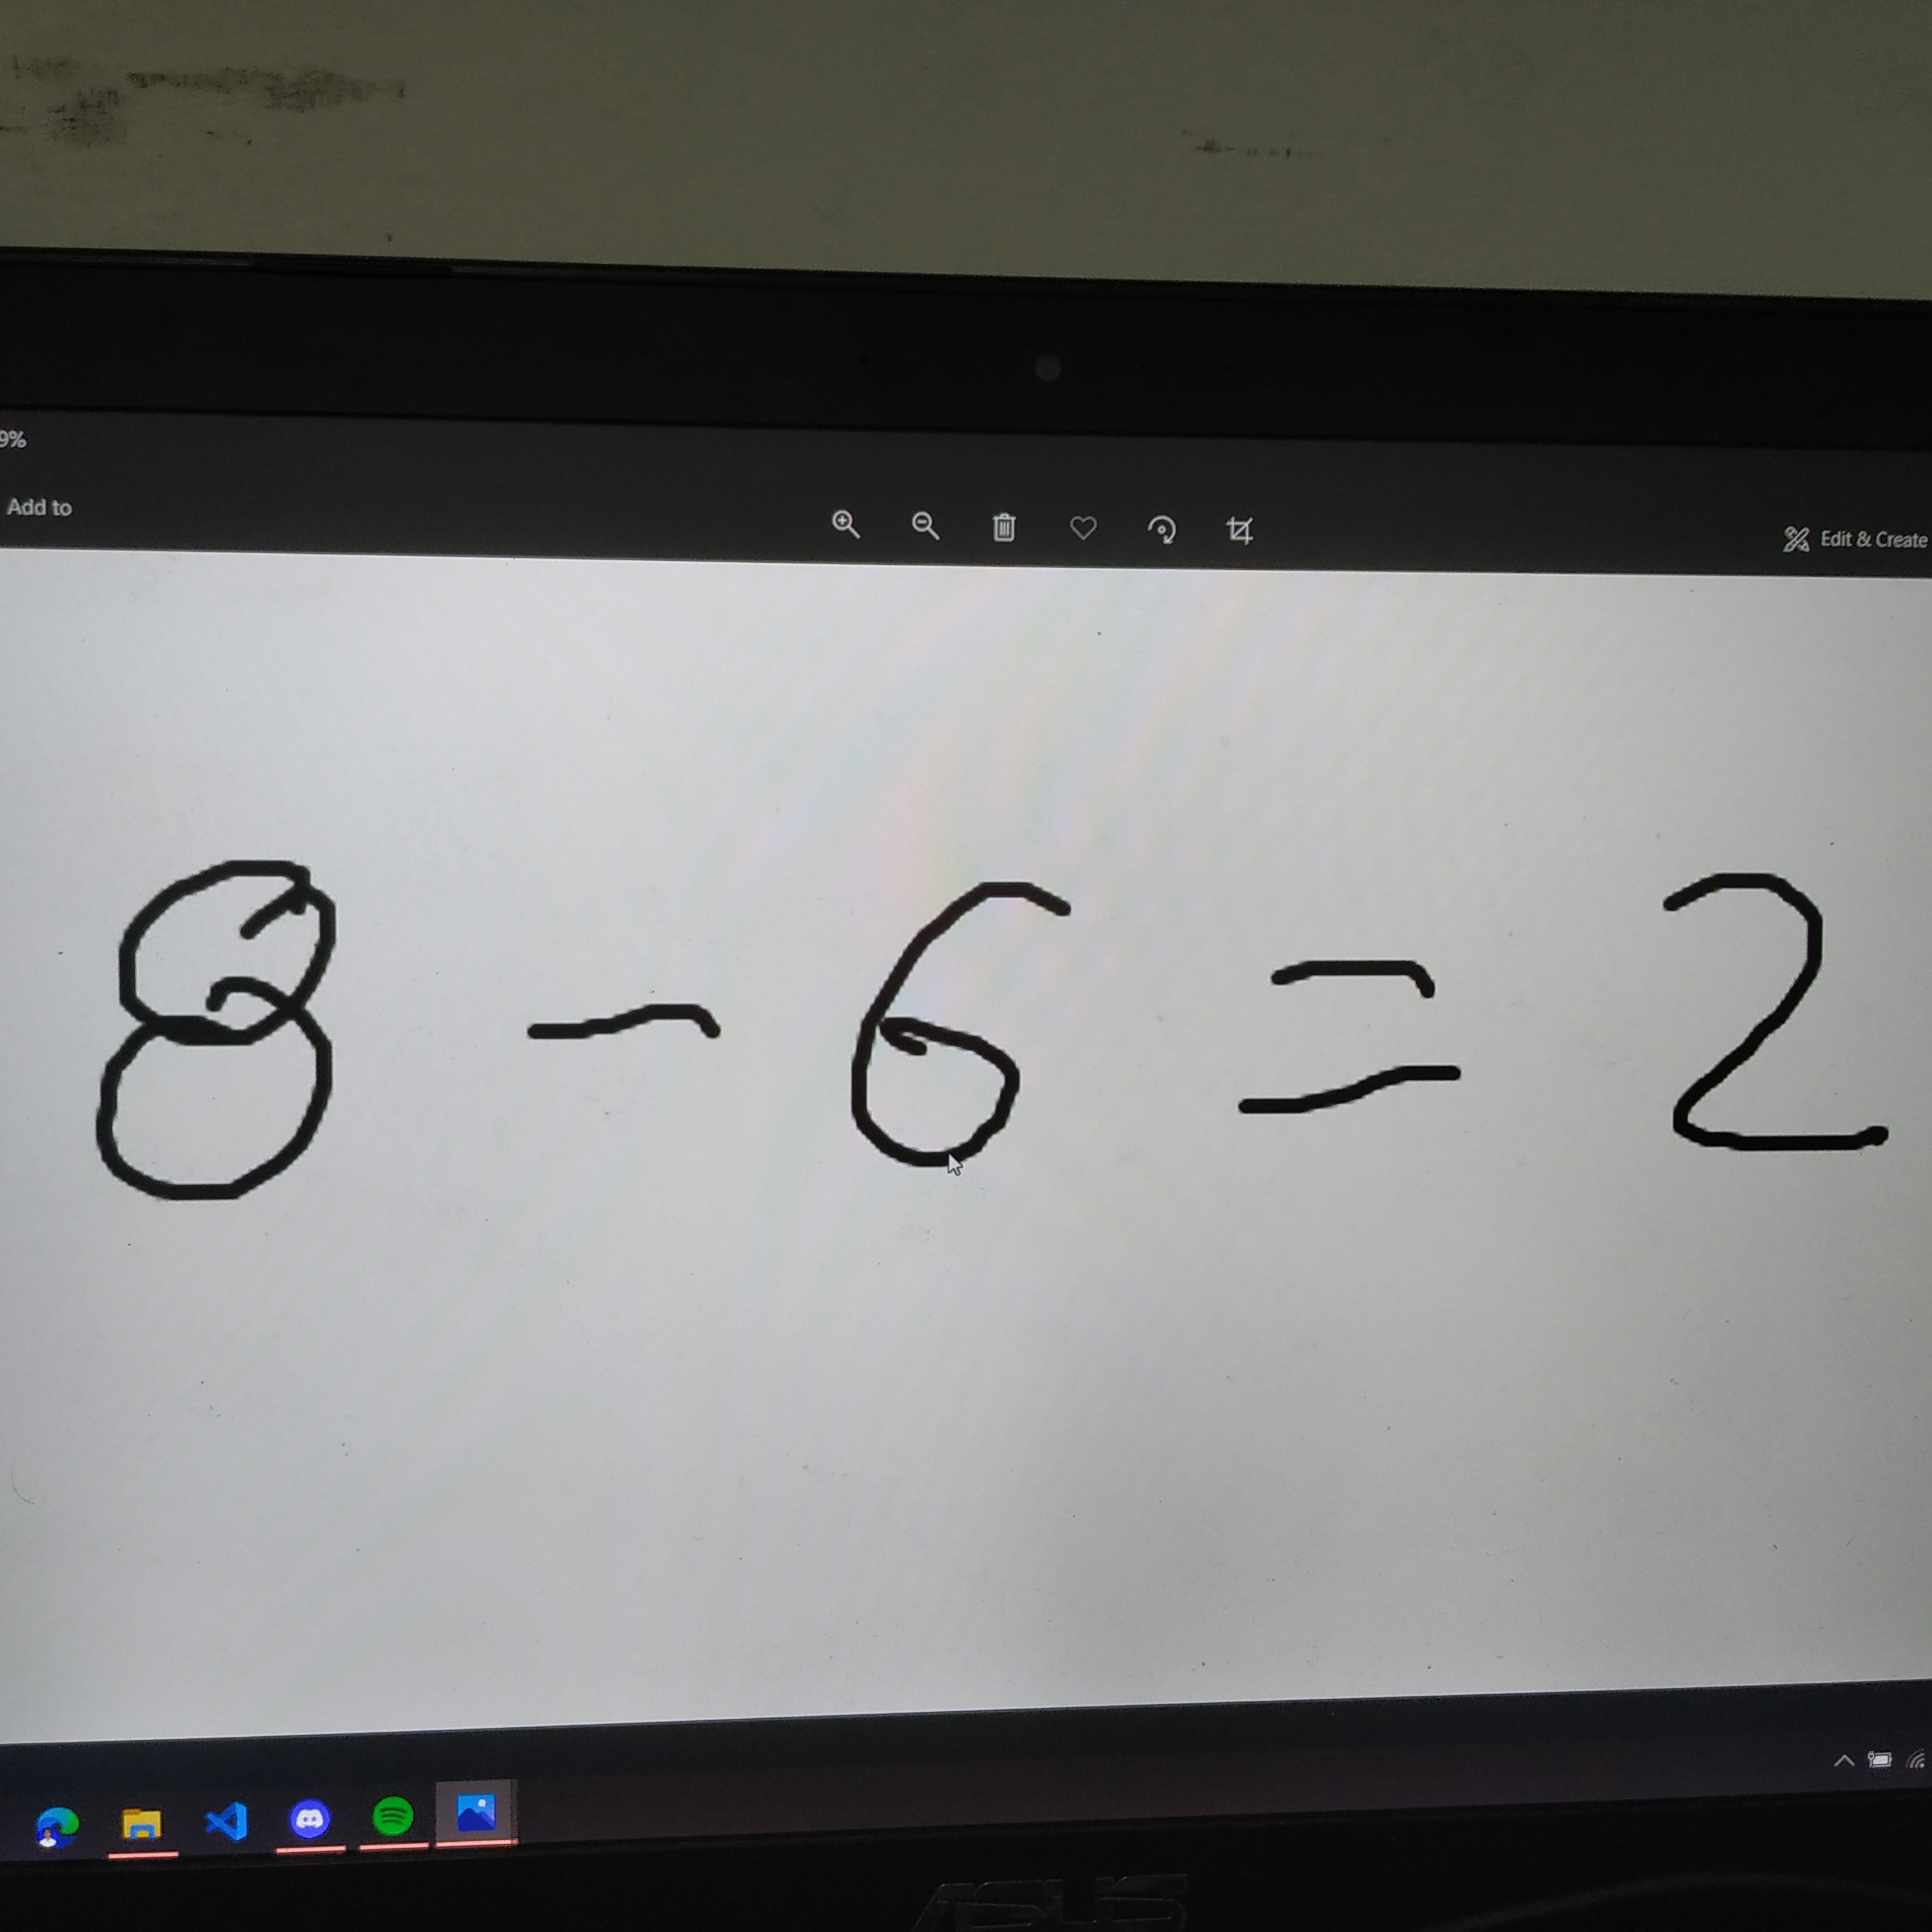equal: (1203, 949, 1502, 1117)
min: (506, 985, 761, 1078)
num2: (1627, 851, 1922, 1173)
num6: (825, 856, 1106, 1198)
num8: (57, 837, 397, 1213)
